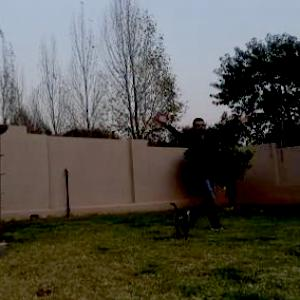takeoff: (158, 114, 252, 230)
